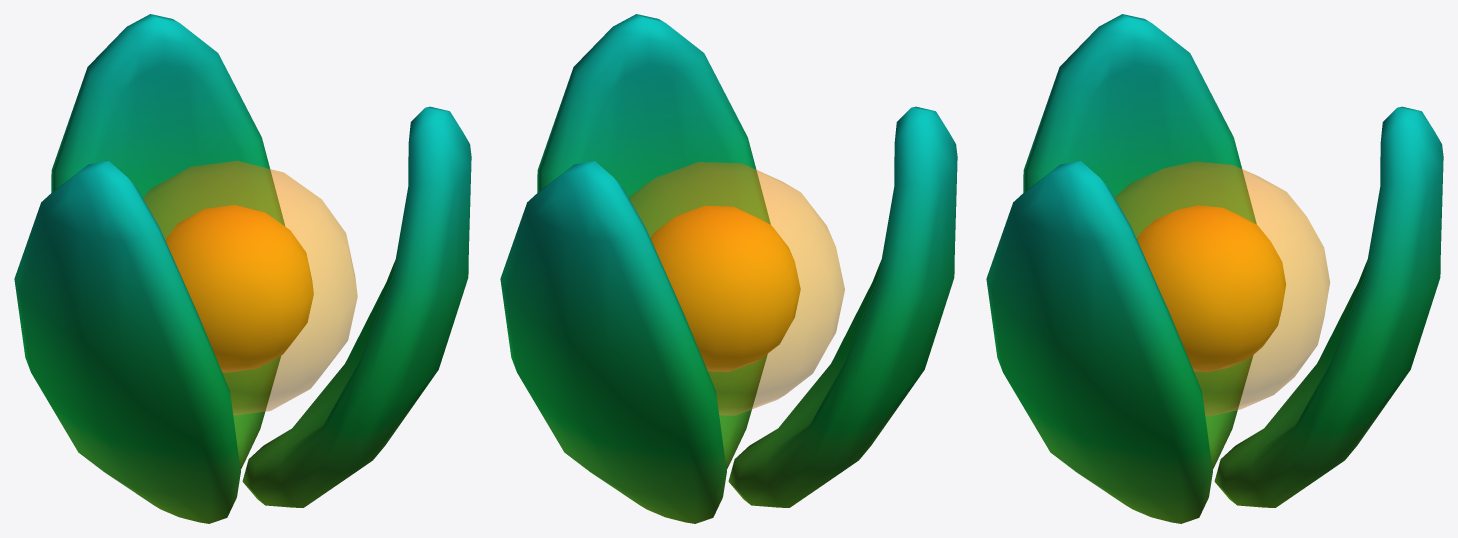
The model's file is capsule_contents_011.glb.
3 views of the same model, side by side, from view 1: azimuth 30°, elevation 25°; view 2: azimuth 150°, elevation 25°; view 3: azimuth 270°, elevation 25° (orthographic).
Visible parts, largest first — view 1: Сapsule_contents_011; view 2: Сapsule_contents_011; view 3: Сapsule_contents_011.
Part boxes in pixels (bbox=[...]): Сapsule_contents_011: bbox=[14, 14, 471, 523]; Сapsule_contents_011: bbox=[500, 14, 957, 523]; Сapsule_contents_011: bbox=[986, 14, 1443, 523].
Size of the model in its own units: 0.8167 by 0.7633 by 0.7863.
Materials: 2 (2 with a texture image).
